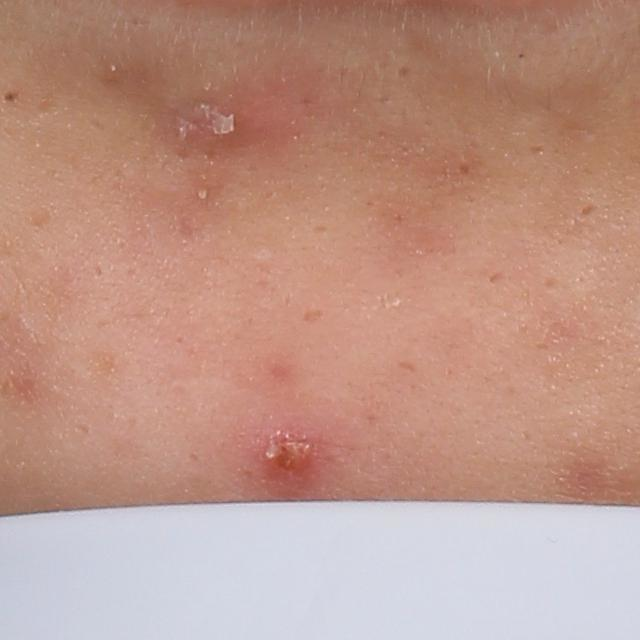atrophic_scar: (298, 307, 326, 326), (393, 358, 421, 377), (577, 201, 601, 222), (393, 64, 409, 82), (456, 162, 474, 177), (529, 145, 546, 156)
comedo: (516, 51, 528, 61)
nevus: (0, 88, 23, 106)
papule: (210, 78, 297, 146), (261, 422, 324, 484)
